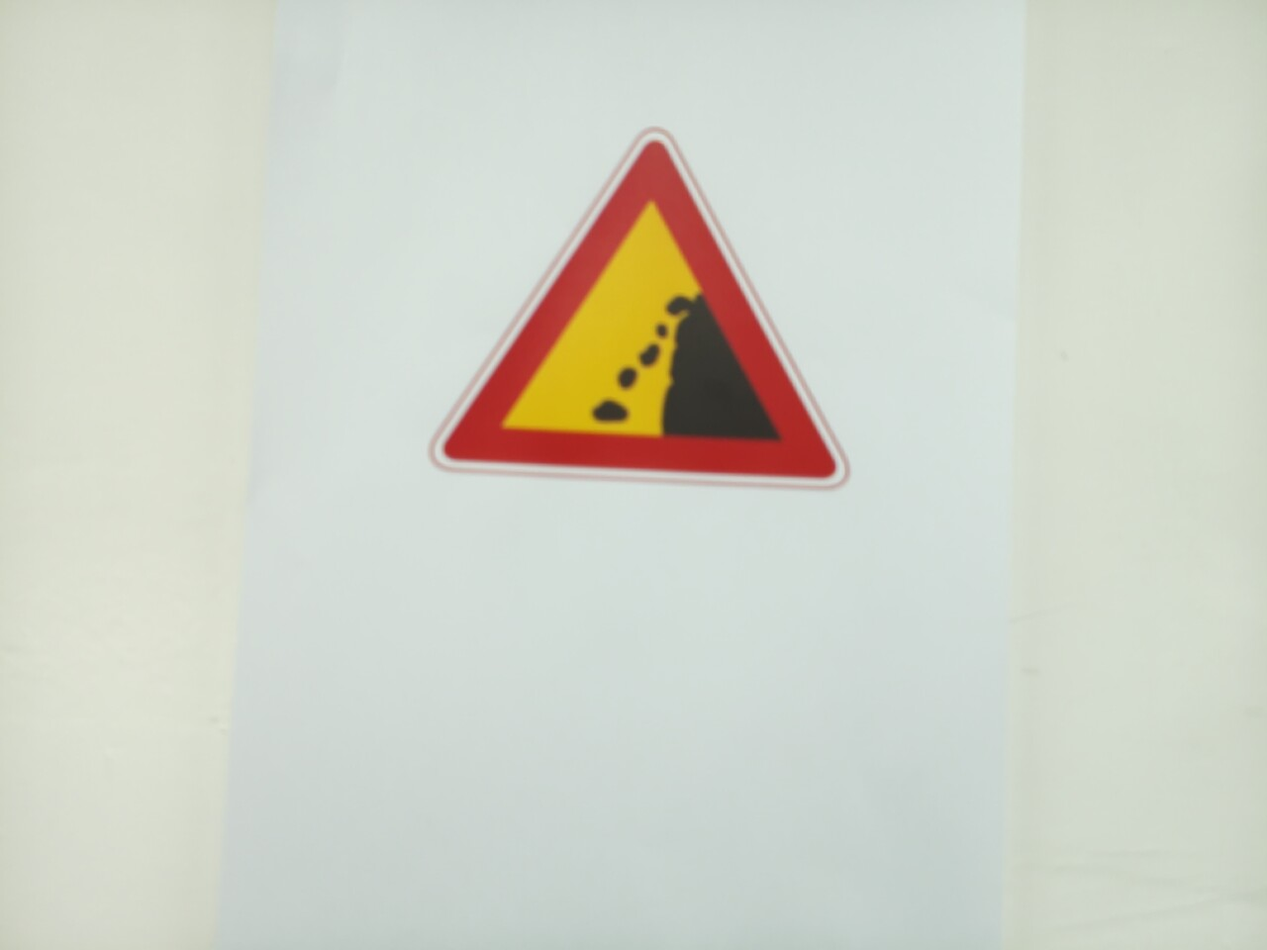falling_rocks: (432, 131, 848, 488)
